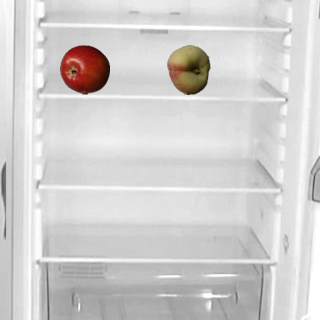Apple Braeburn: (59, 44, 109, 94)
Peach Flat: (163, 44, 213, 94)
